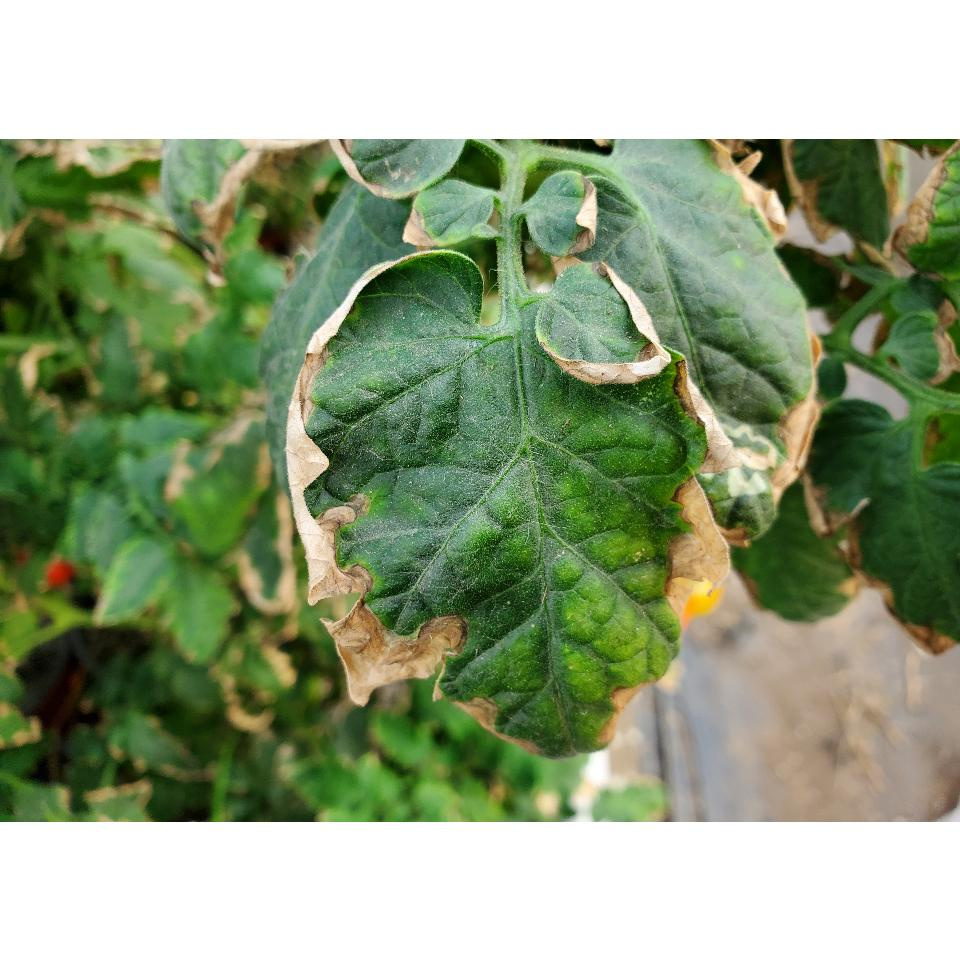tomato_bacterial_blight: (280, 235, 714, 765), (610, 146, 842, 496)
